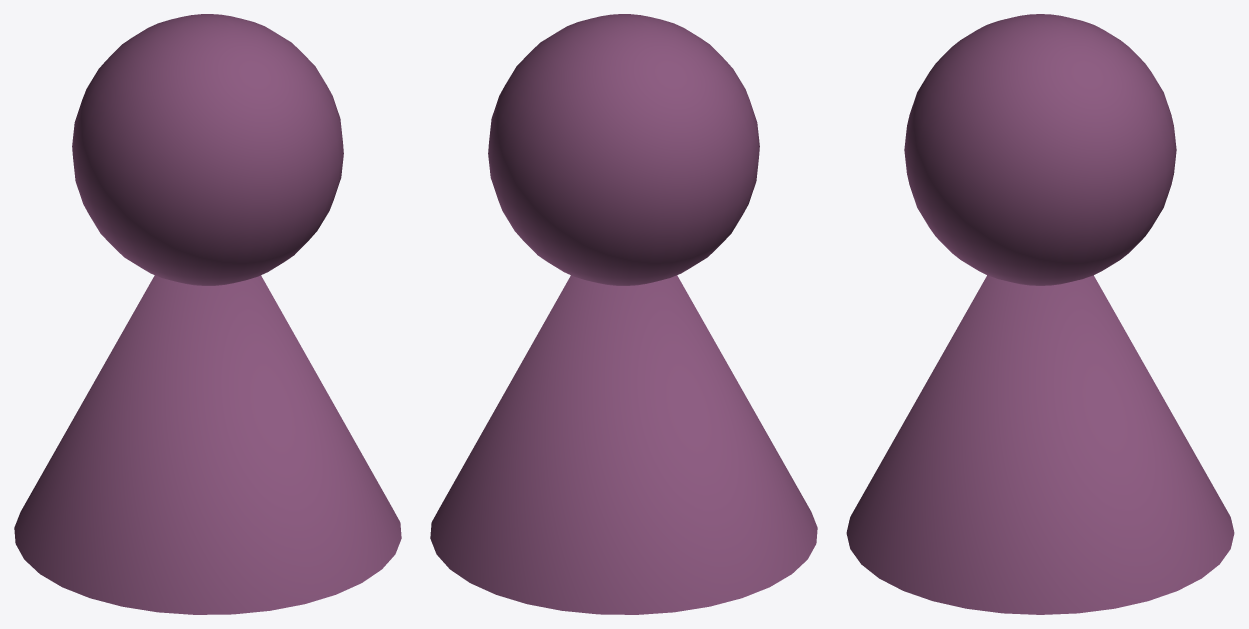
File: spel_pjäs.fbx
The picture shows the model from 3 angles, left to right: view 1: azimuth 30°, elevation 25°; view 2: azimuth 150°, elevation 25°; view 3: azimuth 270°, elevation 25°; orthographic projection.
Visible parts, largest first — view 1: Cone; view 2: Cone; view 3: Cone.
Part boxes in pixels (x1,y1,x2,y2): Cone: (14,14,401,614); Cone: (430,14,817,614); Cone: (846,14,1234,614).
Bounding box in the file's own units: 27.64 × 39.8 × 27.64.
